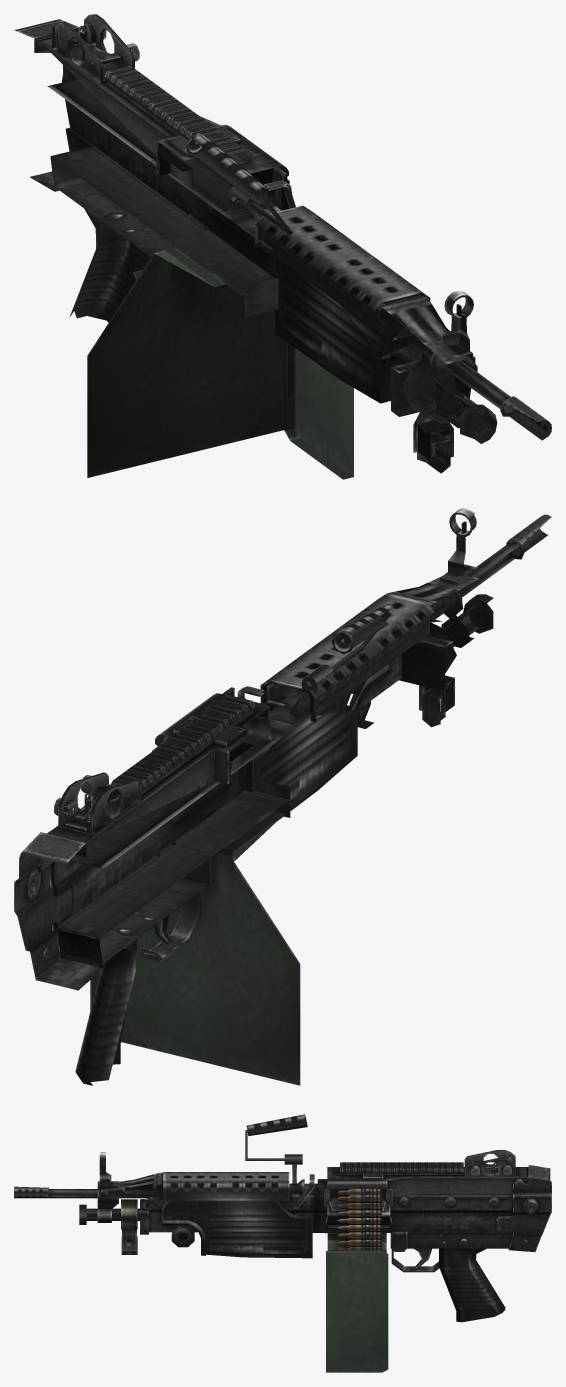
Rendered from Gun_M249_02.glb.
3 views of the same model, one above another, from view 1: azimuth 30°, elevation 25°; view 2: azimuth 150°, elevation 25°; view 3: azimuth 270°, elevation 25° (orthographic). The views are drawn at different scales.
Parts seen in each view (by area): view 1: Guns_009_Mesh; view 2: Guns_009_Mesh; view 3: Guns_009_Mesh.
Boxes of the visible parts, x1,y1,x2,y2 form: Guns_009_Mesh: [14, 14, 551, 479]; Guns_009_Mesh: [14, 508, 551, 1085]; Guns_009_Mesh: [14, 1114, 551, 1372].
Size of the model in its own units: 0.2123 by 0.3886 by 0.892.
1 material, 1 textured.
